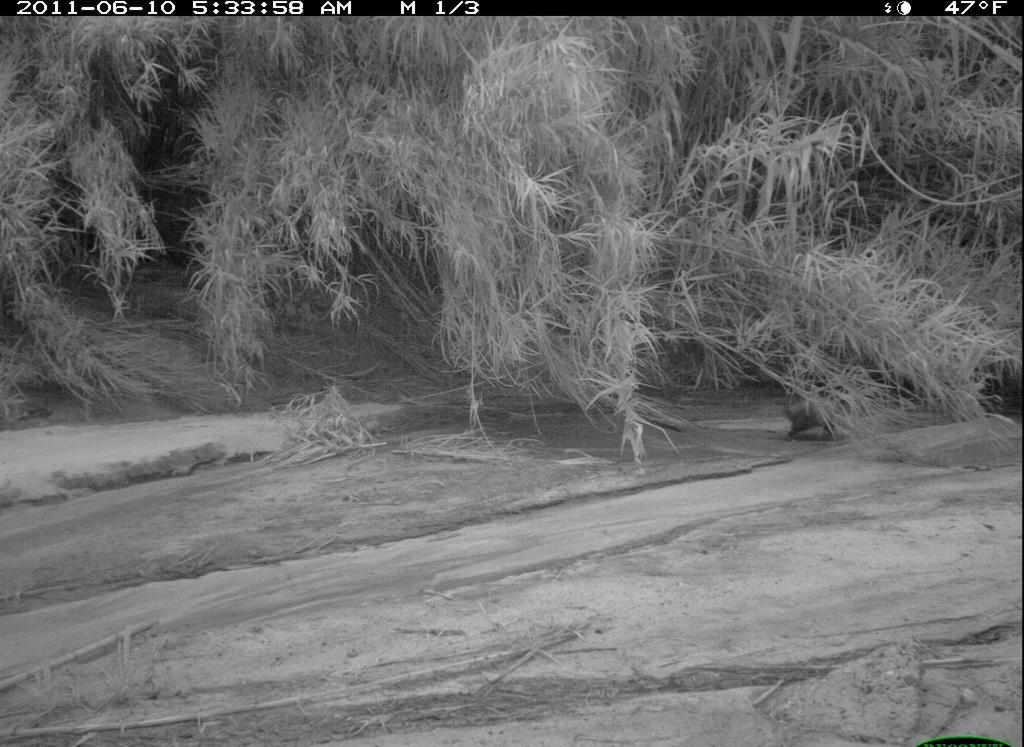opossum: (770, 392, 882, 454)
